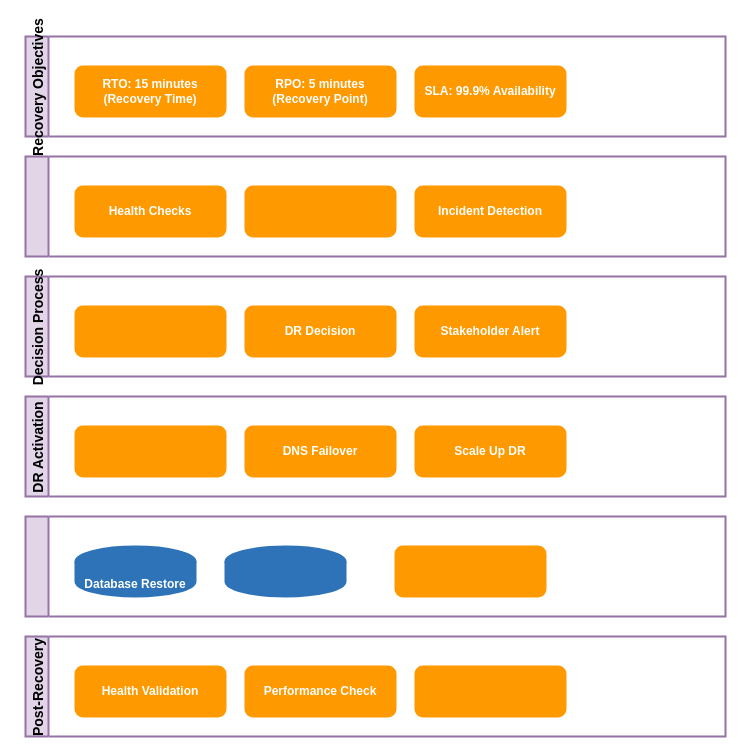
This 743x755 diagram has some shape labels left out. The box of each missing label's shape, as (x1, y1, x2, y2) in pixels:
Assess Incident: (74, 305, 226, 357)
Initiate DR: (74, 425, 226, 477)
Metric Alarms: (244, 185, 396, 237)
Monitoring & Detection: (24, 155, 726, 257)
Post-Incident Review: (414, 665, 566, 717)
Recovery Process: (24, 515, 726, 617)
Service Validation: (394, 545, 546, 597)
Storage Sync: (224, 545, 346, 597)
